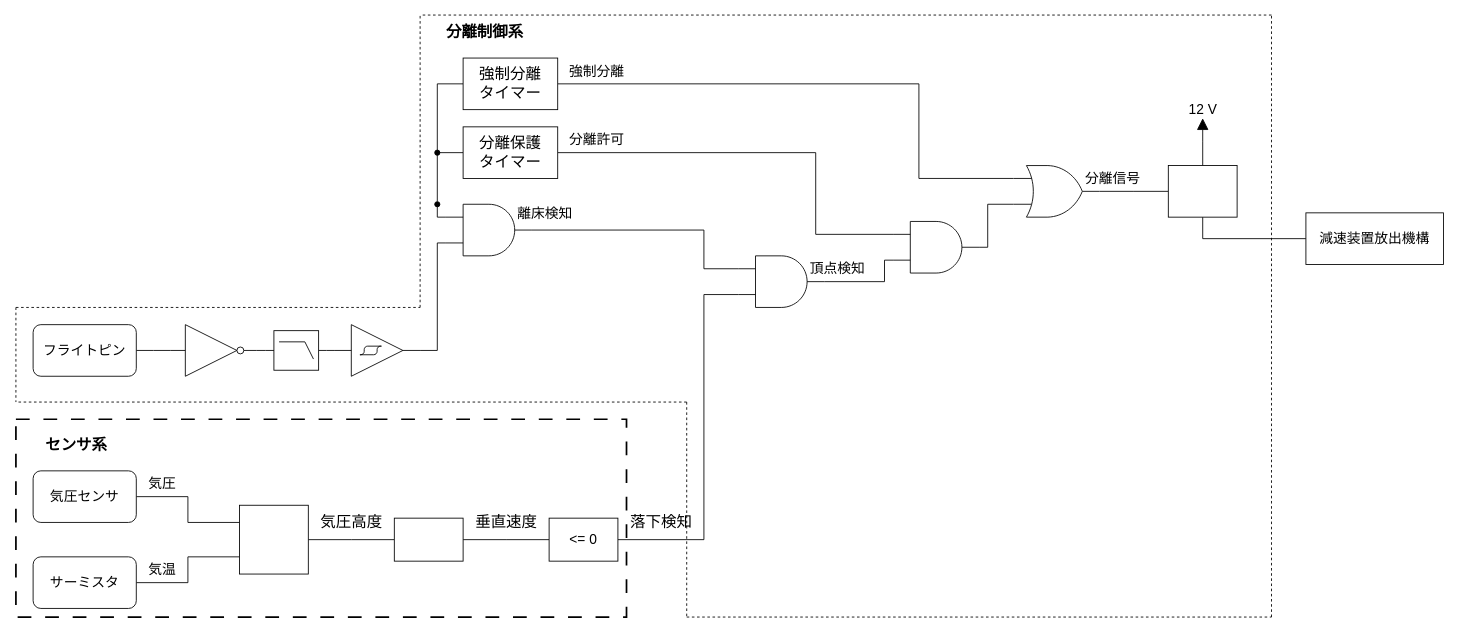
The diagram is 1459 pixels wide and 633 high, and some of its shapes have lost their labels. The shapes that lost their labels are listed below. From the top down, each one's centre as x and y in pixels, then its label:
the point at 1202,191: リレー
the point at 273,539: 高度算出
the point at 428,539: 積分
